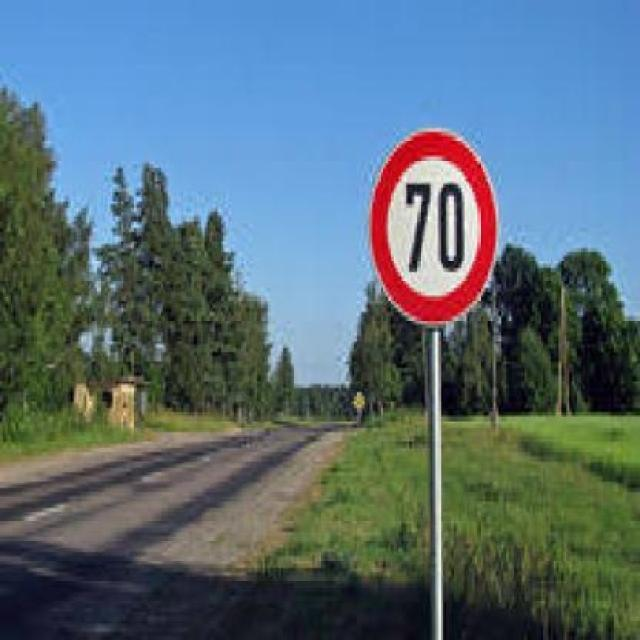forb_speed_over_70: (372, 132, 506, 329)
